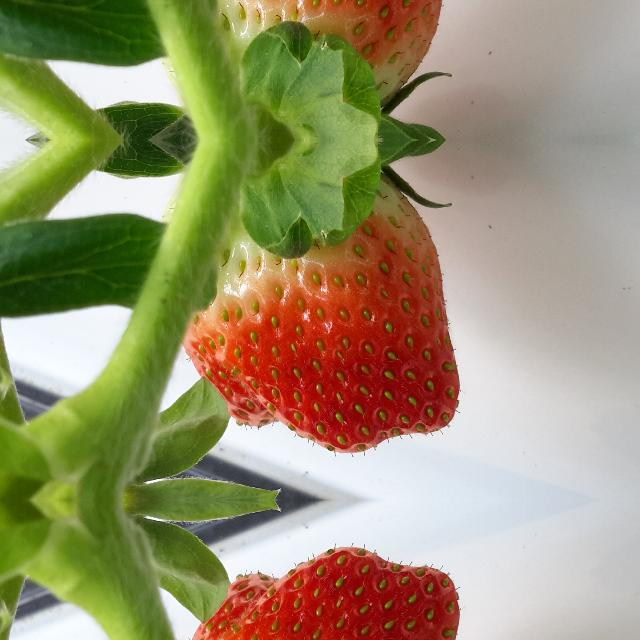Health_100: (180, 174, 458, 458), (180, 0, 458, 106), (180, 542, 458, 640)
